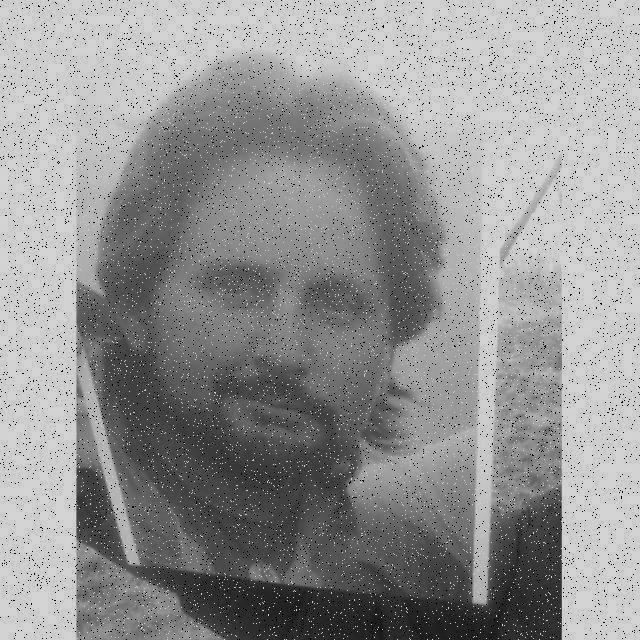fake: (78, 33, 516, 612)
